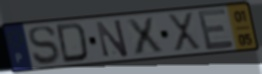D: (55, 21, 91, 65)
E: (195, 7, 236, 53)
N: (94, 18, 131, 59)
S: (27, 24, 61, 67)
X: (124, 16, 166, 57), (166, 11, 204, 53)
